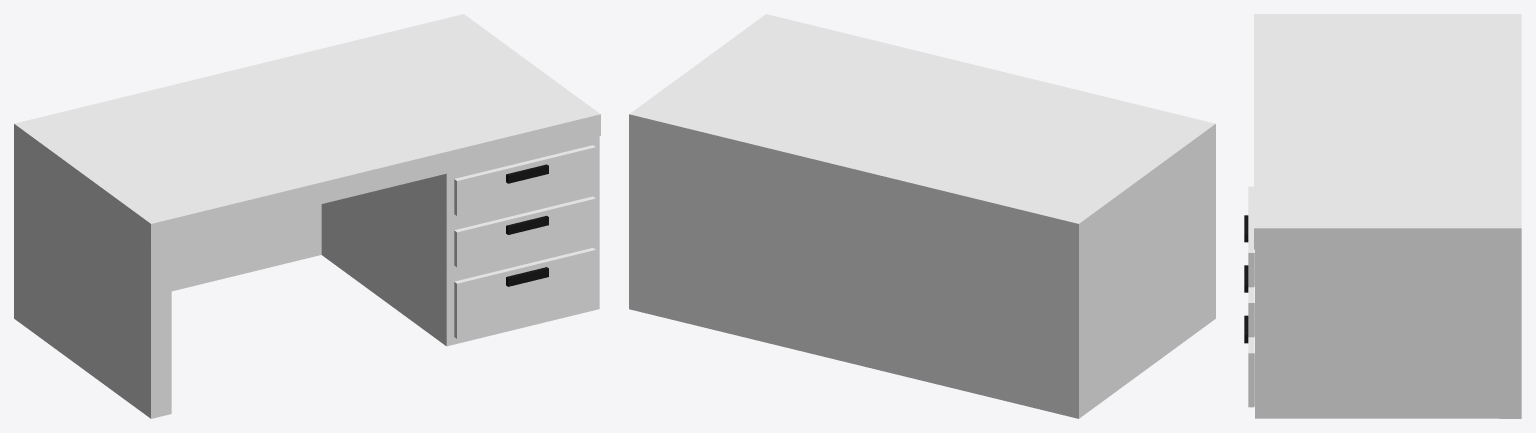
File: table-3.fbx
3 views of the same model, side by side, from view 1: azimuth 30°, elevation 25°; view 2: azimuth 150°, elevation 25°; view 3: azimuth 270°, elevation 25° (orthographic). The views are drawn at different scales.
Parts seen in each view (by area): view 1: table-3; view 2: table-3; view 3: table-3.
Boxes of the visible parts, box(x1,y1,x2,y2) form: table-3: box(14, 14, 600, 418); table-3: box(629, 14, 1215, 418); table-3: box(1244, 14, 1521, 418).
Size of the model in its own units: 2.55 by 1.06 by 1.4.
Materials: 1 (1 with a texture image).
